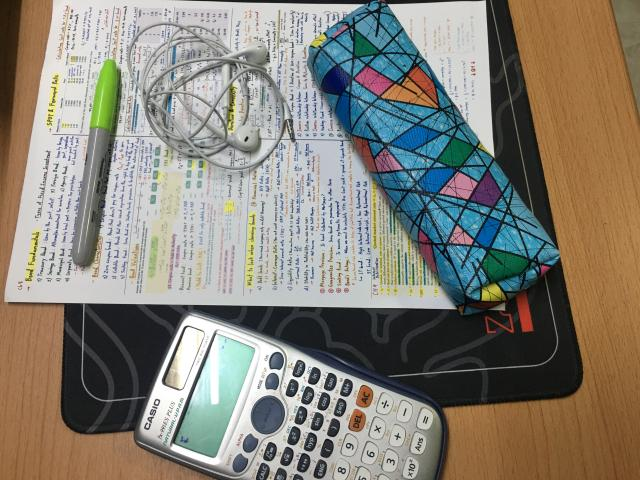Pen: (71, 60, 118, 266)
paper: (5, 2, 454, 309), (391, 2, 494, 154)
wire: (128, 21, 295, 170)
